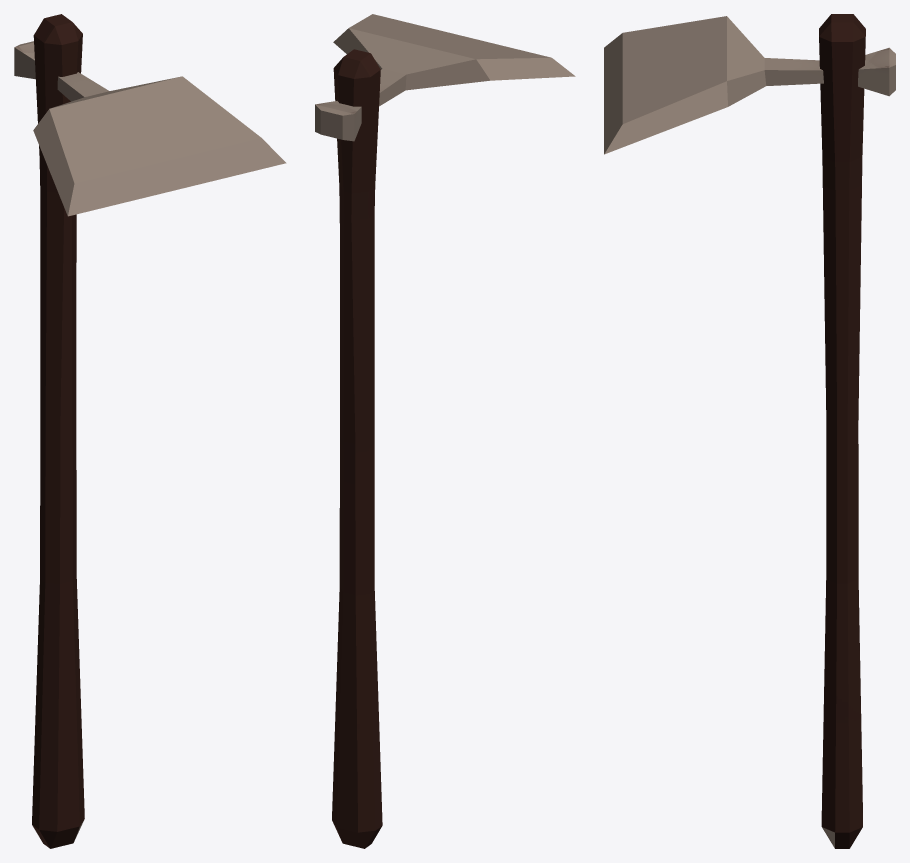
Rendered from Hoesmad 1.fbx.
3 renders of one model, left to right at view 1: azimuth 30°, elevation 25°; view 2: azimuth 150°, elevation 25°; view 3: azimuth 270°, elevation 25°, orthographic. The views are drawn at different scales.
Visible parts, largest first — view 1: Cube.001; view 2: Cube.001; view 3: Cube.001.
Part boxes in pixels (x1,y1,x2,y2): Cube.001: (14,14,286,848); Cube.001: (315,14,575,848); Cube.001: (604,14,895,848).
Bounding box in the file's own units: 108 × 390 × 125.
1 material, 1 textured.
